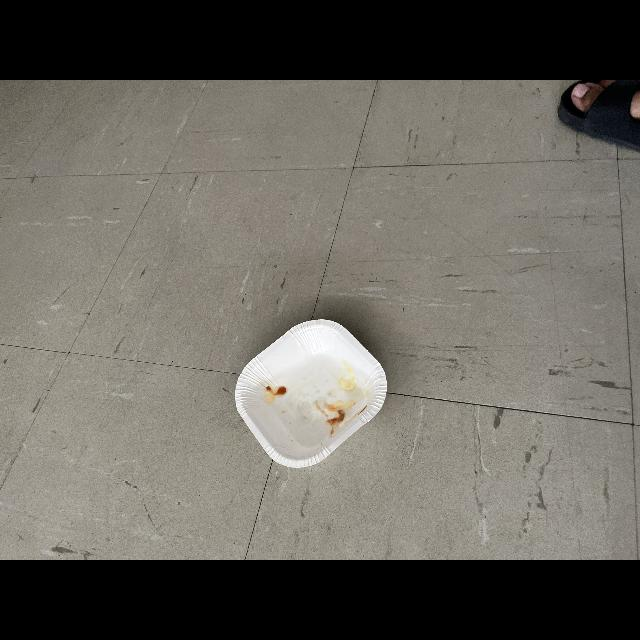cardboard_bowl: (230, 310, 392, 474)
